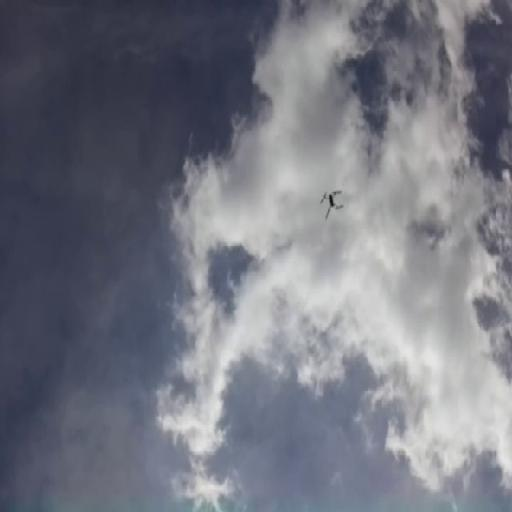drones: (317, 180, 348, 224)
